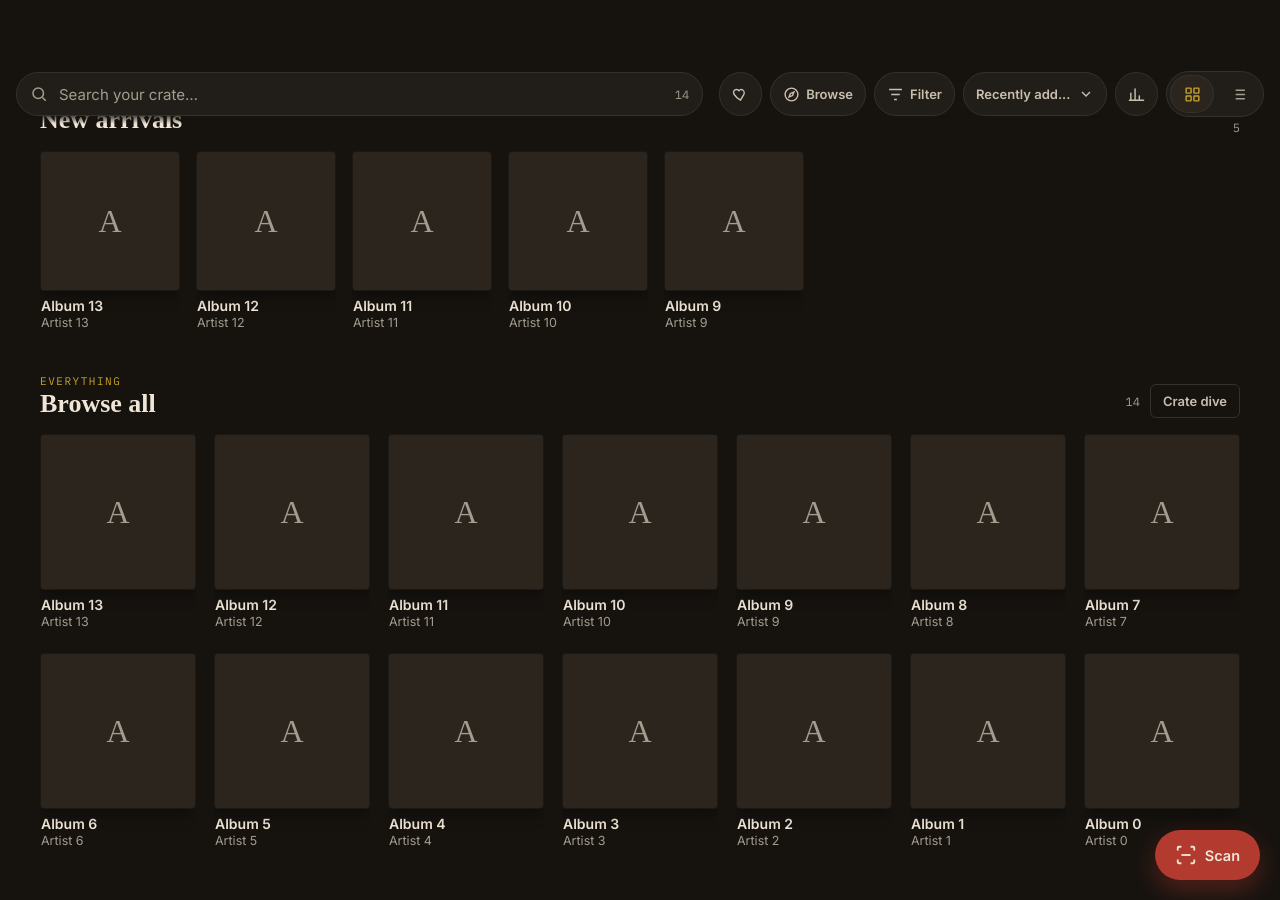
it: CollectionView — The Floor (§ Phase 1) › Crate dive opens a random item detail (deterministic with Math.random mocked)
expect the heading "Browse all" is shown: met, box [40,390,156,418]
Click the button with aria-label "Open a random record from your crate" at [1195, 401], box [1150,384,1240,418]
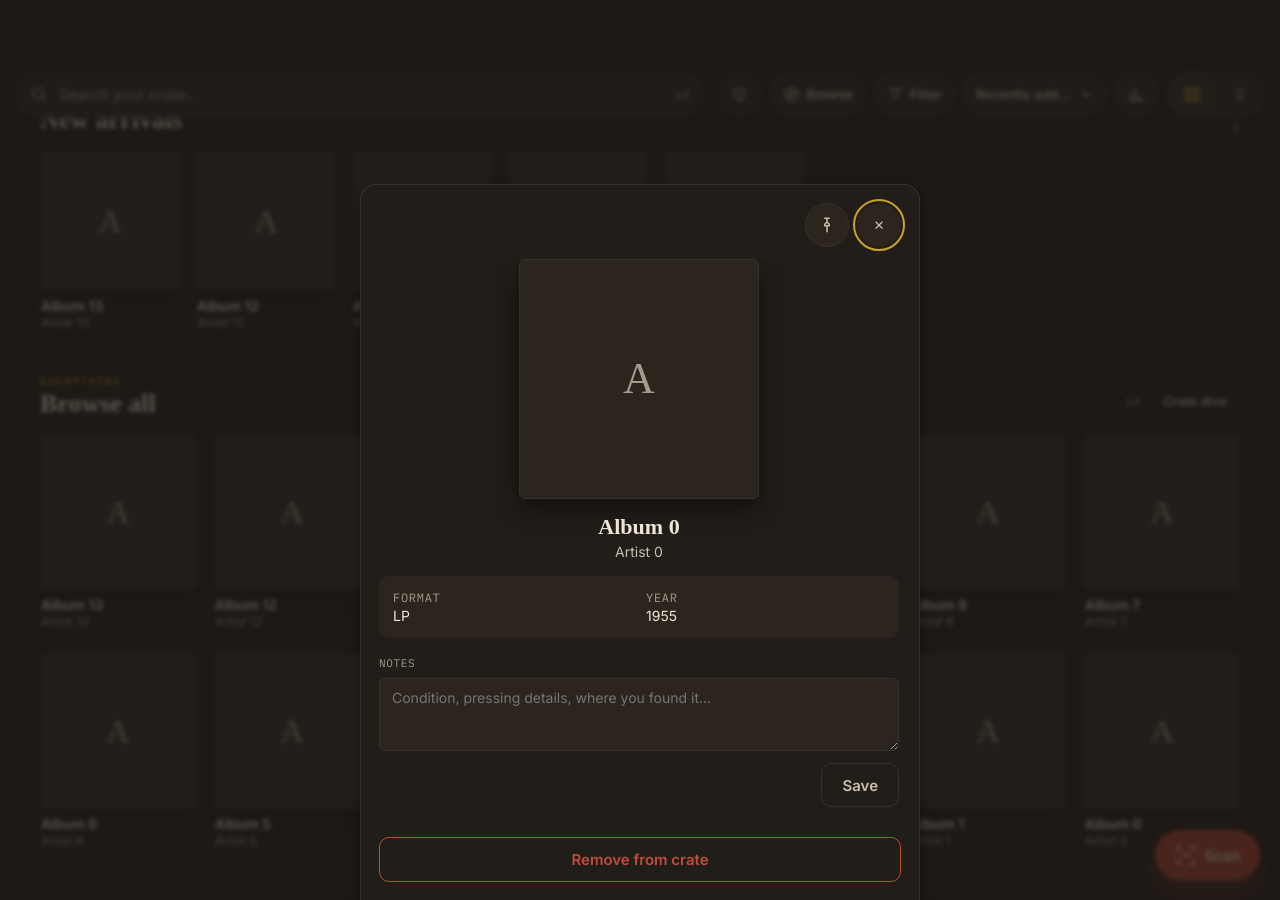
expect the dialog "Album 0" is shown: met
